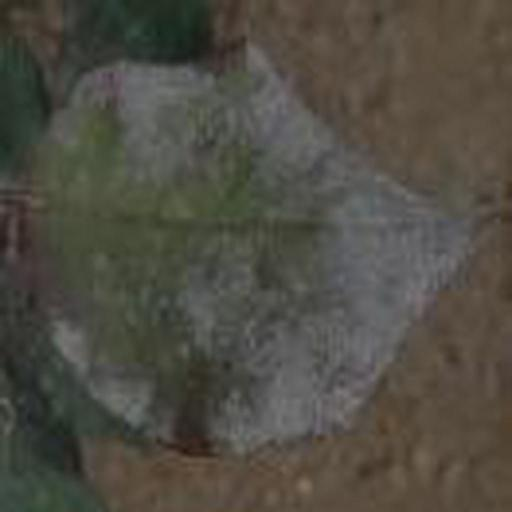powdery_mildew: (36, 50, 465, 456)
